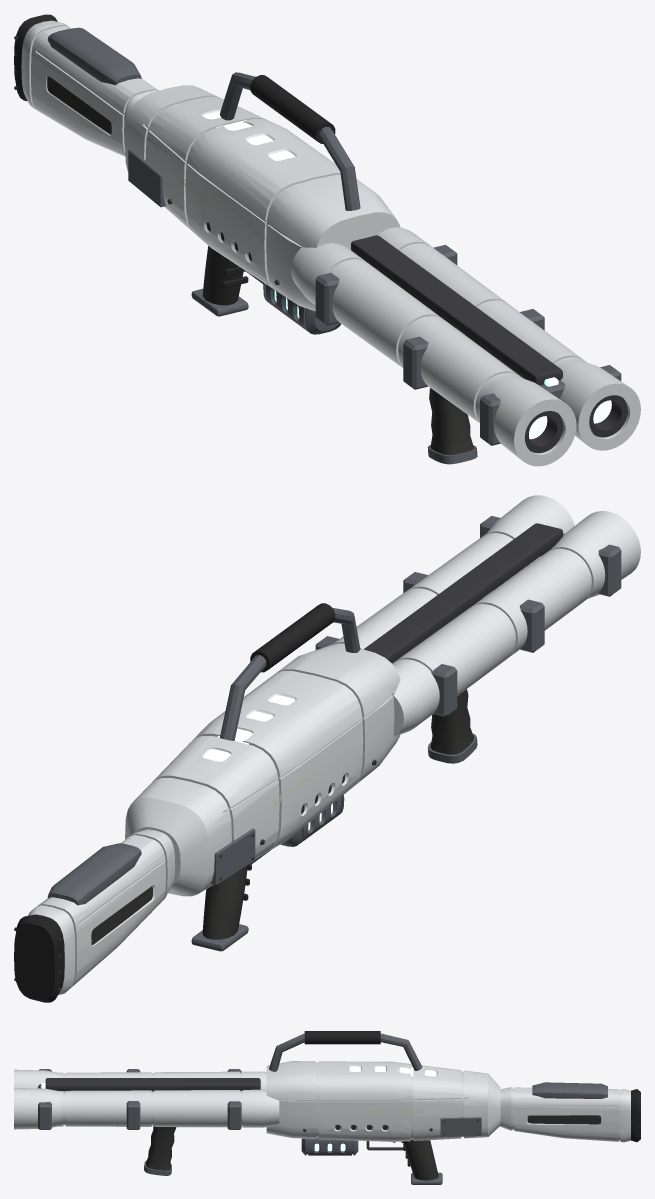
The model's file is burstcannon.glb.
The picture shows the model from 3 angles, top to bottom: view 1: azimuth 30°, elevation 25°; view 2: azimuth 150°, elevation 25°; view 3: azimuth 270°, elevation 25°; orthographic projection. The views are drawn at different scales.
Parts seen in each view (by area): view 1: Body; view 2: Body; view 3: Body.
Part boxes in pixels (x1,y1,x2,y2): Body: [14, 14, 640, 466]; Body: [14, 495, 640, 1002]; Body: [14, 1031, 640, 1184].
Size of the model in its own units: 0.14 by 0.2607 by 0.992.
